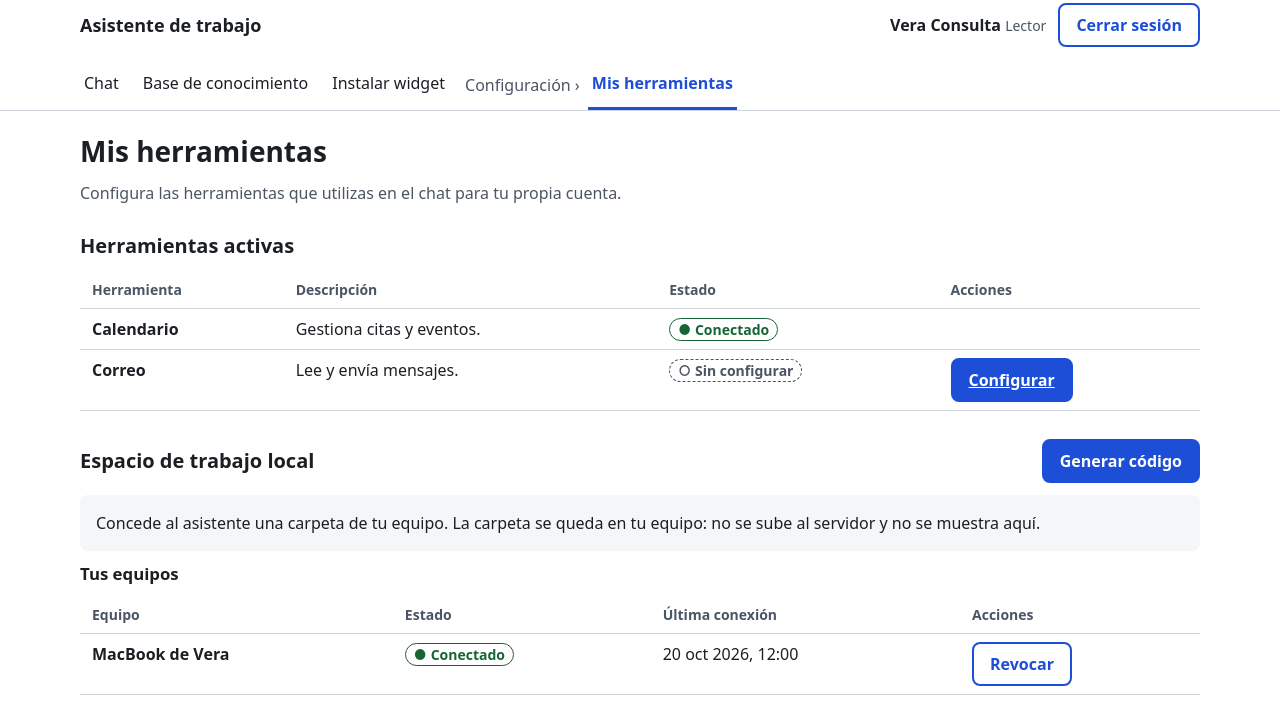
it: MyToolsPage: local workspace card › keeps the device and reports a failed revoke in Spanish
Check: the table named "Herramientas activas de tu empresa" is shown, box [80,271,1200,411]
Check: the column heading "MacBook de Vera" is shown, box [80,634,393,695]
Click the button named "Revocar «MacBook de Vera»" at (1022,664), box [972,642,1072,686]
(page scrolled)
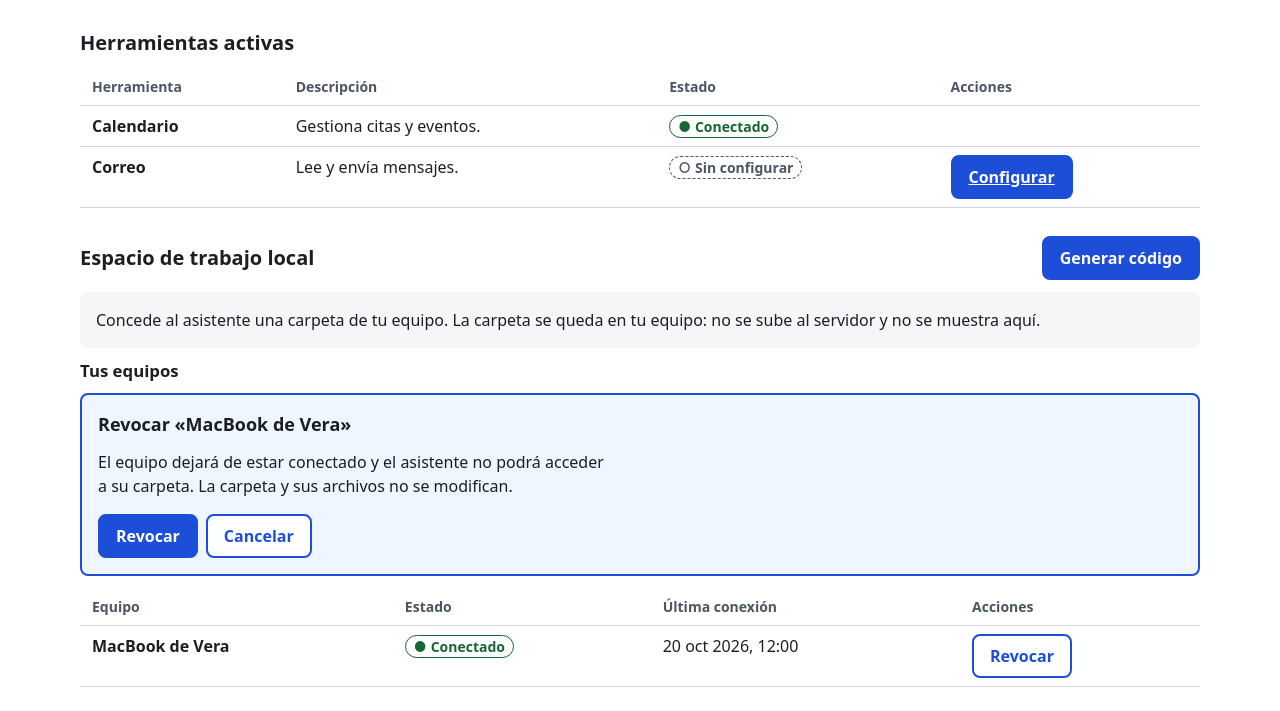
Click the button "Revocar" below "Revocar «MacBook de Vera»" at (148,536), box [98,514,198,558]
(page scrolled)
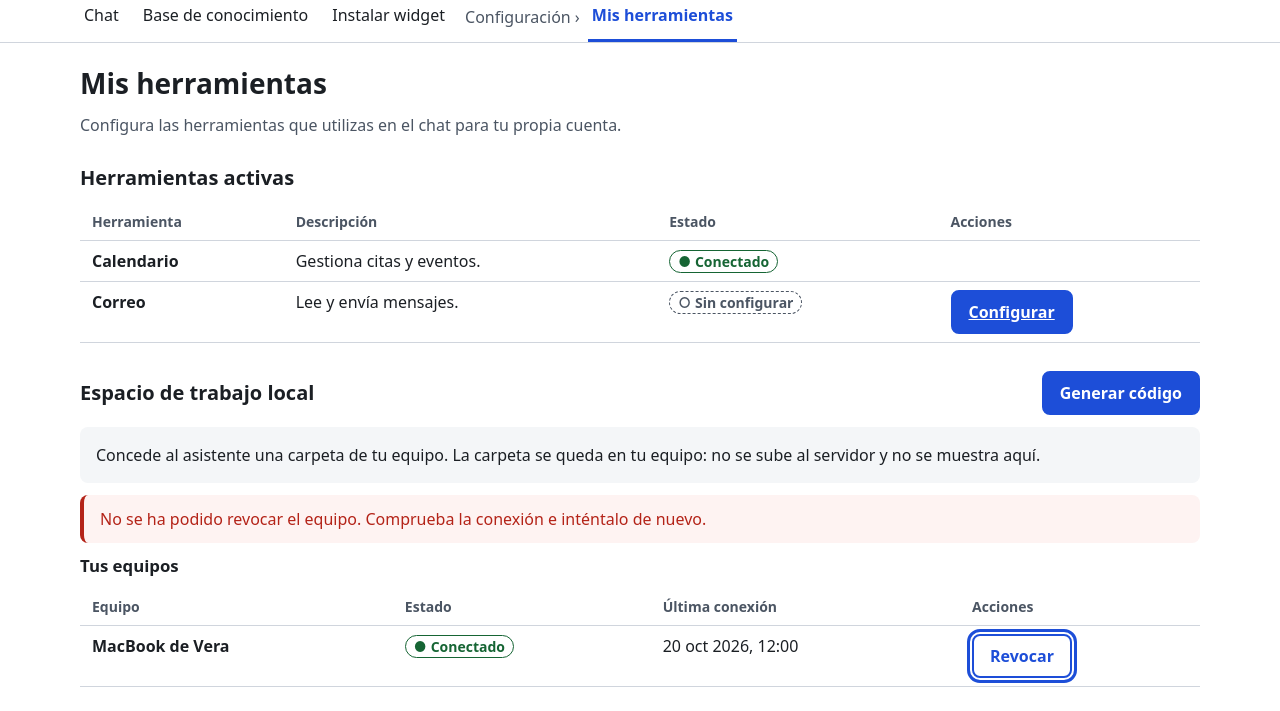
Check: the message does not show "boom", box [80,495,1200,543]
Check: the message reads "No se ha podido revocar el equipo. Comprueba la conexión e inténtalo de nuevo.", box [100,508,706,530]
